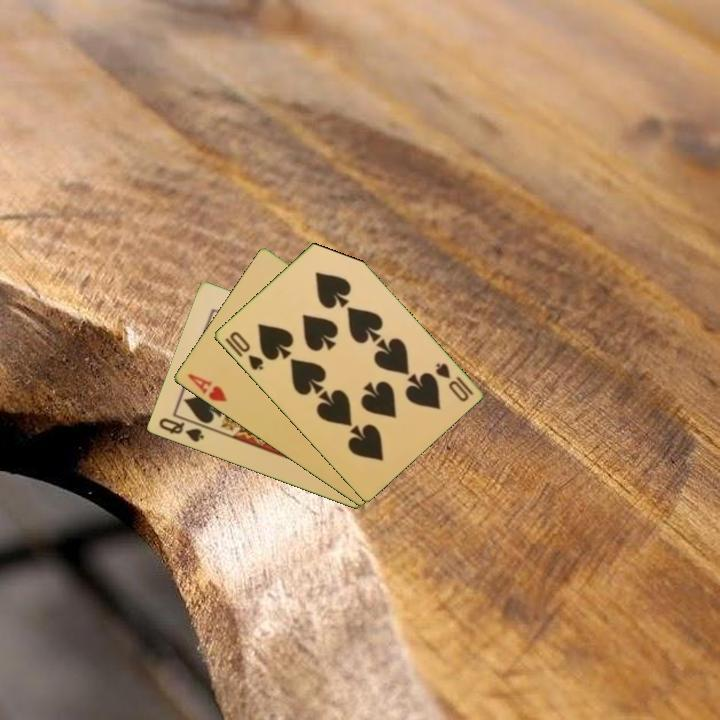10s: (431, 359, 476, 405), (226, 328, 266, 374)
Ah: (184, 370, 229, 405)
Qs: (155, 414, 206, 445)
